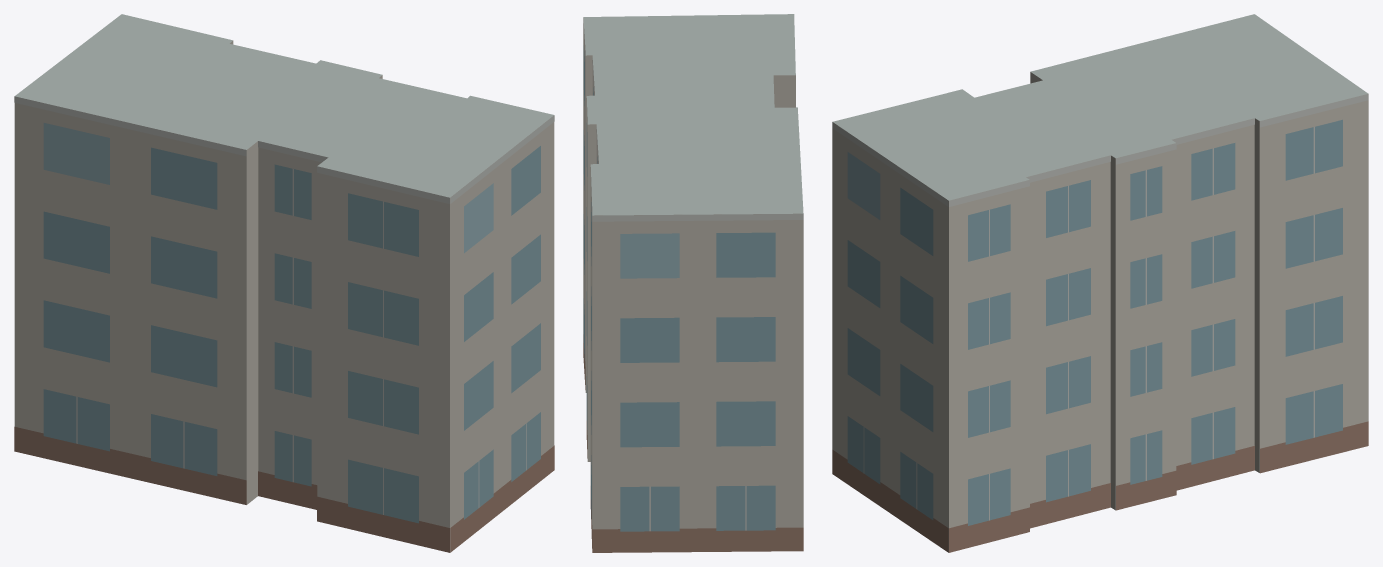
The model's file is survey-upis-32532070.glb.
3 renders of one model, left to right at view 1: azimuth 30°, elevation 25°; view 2: azimuth 150°, elevation 25°; view 3: azimuth 270°, elevation 25°, orthographic. The views are drawn at different scales.
Visible parts, largest first — view 1: survey-upis-32532070.tmp; view 2: survey-upis-32532070.tmp; view 3: survey-upis-32532070.tmp.
Boxes of the visible parts, x1,y1,x2,y2 form: survey-upis-32532070.tmp: (14, 14, 554, 552); survey-upis-32532070.tmp: (583, 14, 803, 552); survey-upis-32532070.tmp: (832, 14, 1368, 552).
Bounding box in the file's own units: 15.11 × 13.28 × 18.33.
